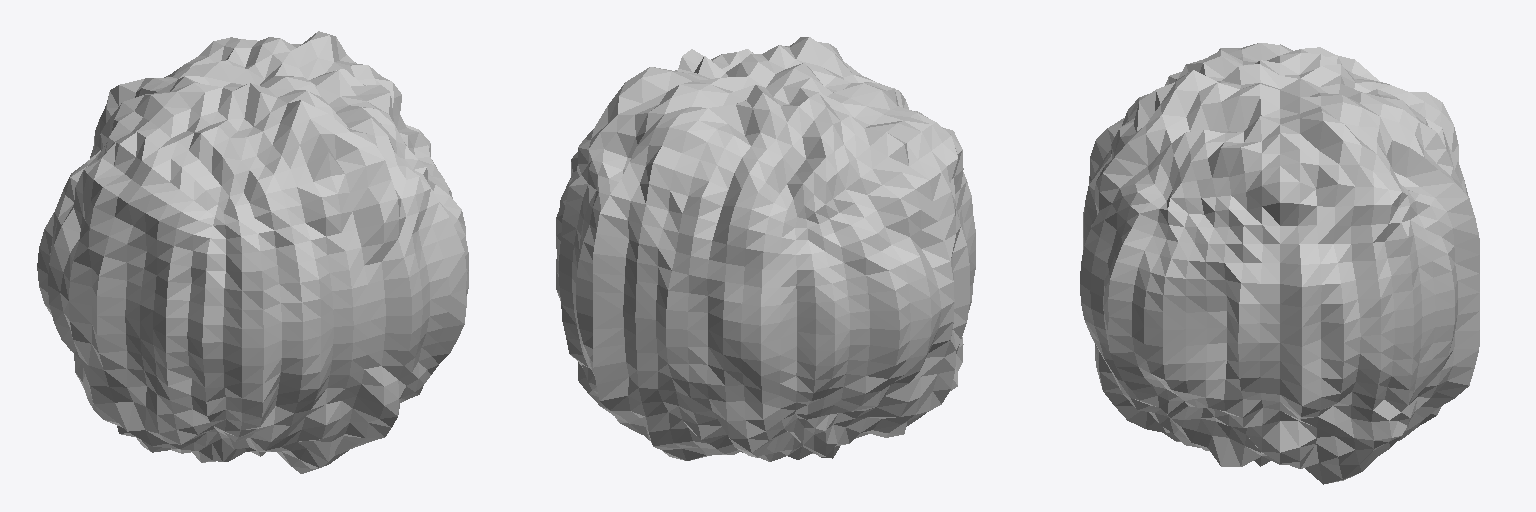
Rendered from asteroid31.obj.
3 views of the same model, side by side, from view 1: azimuth 30°, elevation 25°; view 2: azimuth 150°, elevation 25°; view 3: azimuth 270°, elevation 25° (orthographic).
Visible parts, largest first — view 1: Cube_Cube.002; view 2: Cube_Cube.002; view 3: Cube_Cube.002.
Part boxes in pixels (x1,y1,x2,y2): Cube_Cube.002: (37,31,468,473); Cube_Cube.002: (556,37,975,461); Cube_Cube.002: (1080,43,1479,484).
Bounding box in the file's own units: 1.8 × 1.73 × 1.67.